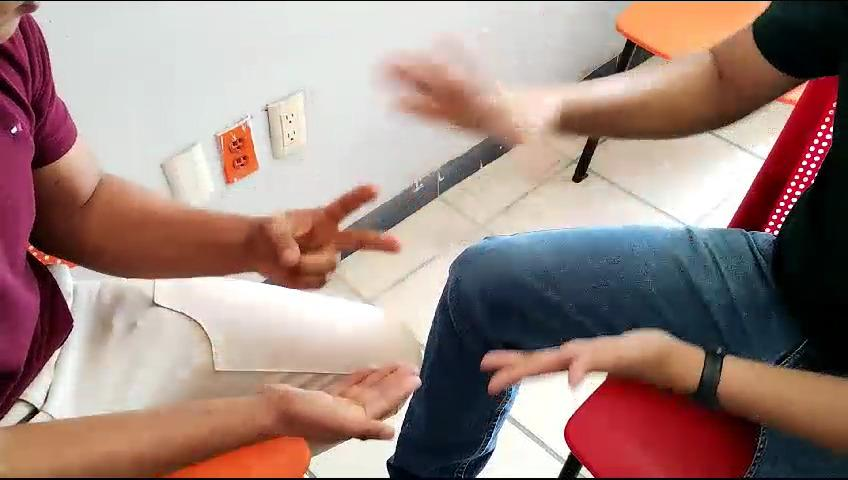Scissor: (234, 172, 413, 301)
